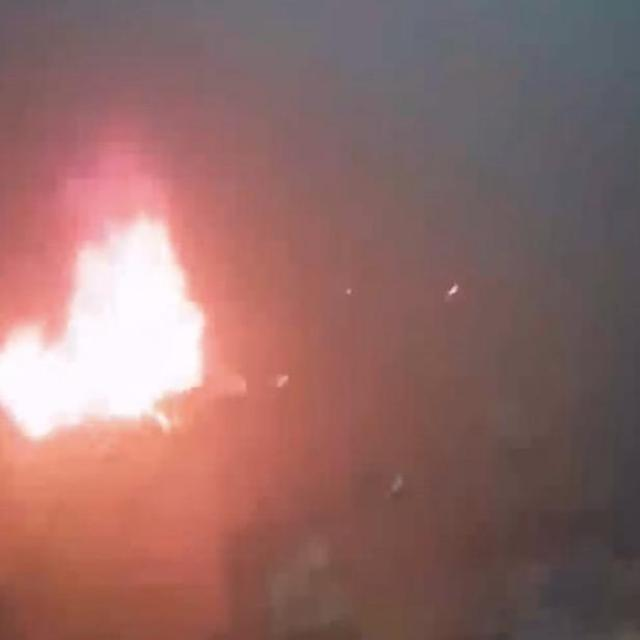smoke: (0, 192, 222, 457)
